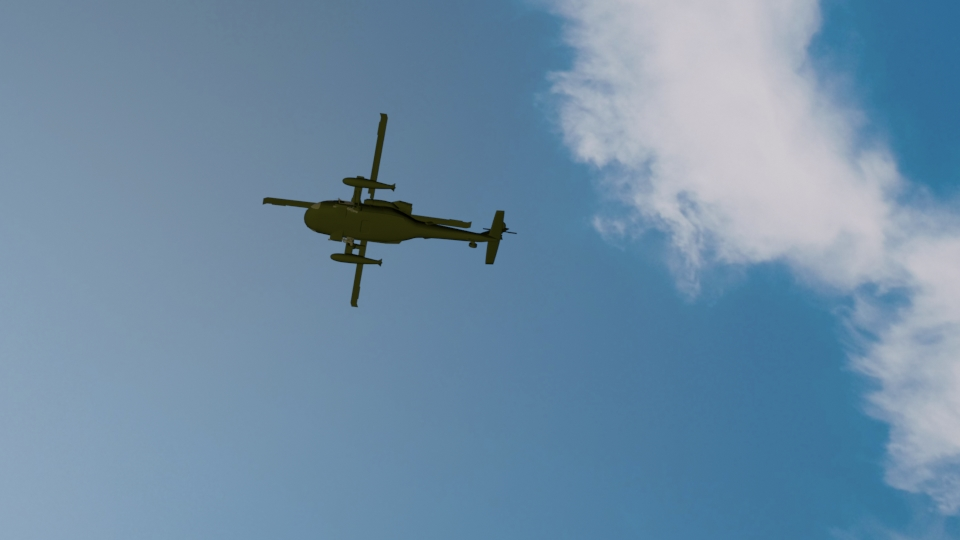heli: (261, 108, 515, 306)
